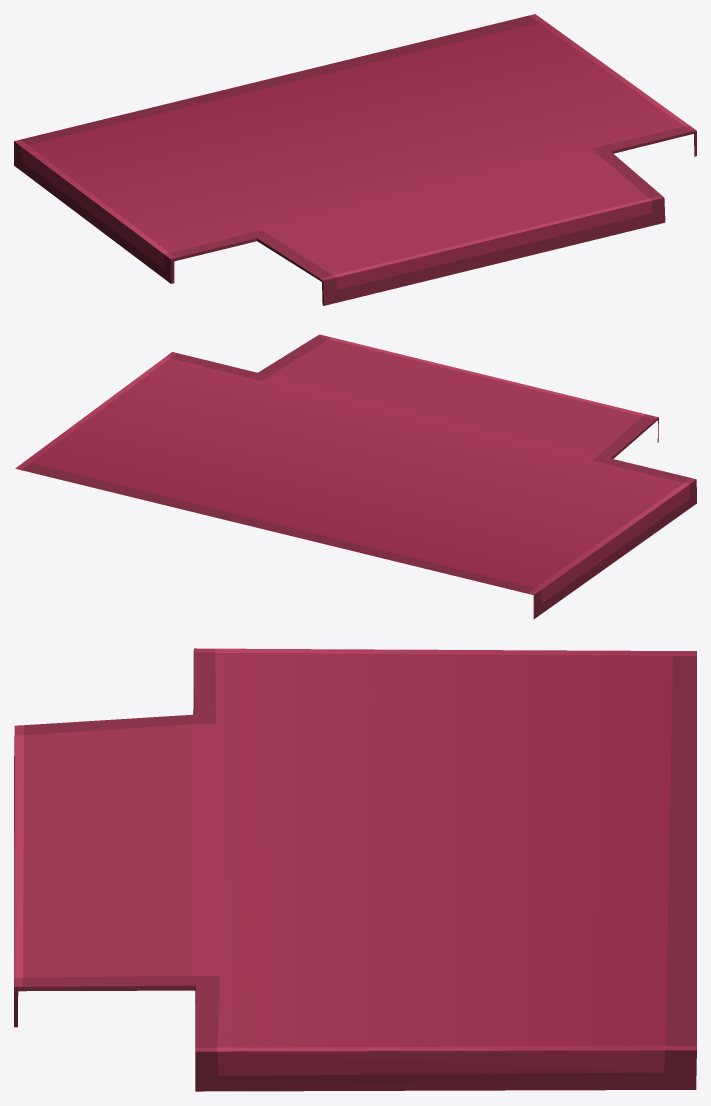
Rendered from RDMARedCarpet.glb.
3 renders of one model, top to bottom at view 1: azimuth 30°, elevation 25°; view 2: azimuth 150°, elevation 25°; view 3: azimuth 270°, elevation 25°, orthographic. The views are drawn at different scales.
Visible parts, largest first — view 1: RDMARedCarpet; view 2: RDMARedCarpet; view 3: RDMARedCarpet.
Boxes of the visible parts, x1,y1,x2,y2 form: RDMARedCarpet: (14, 14, 696, 305); RDMARedCarpet: (15, 334, 696, 619); RDMARedCarpet: (14, 648, 696, 1091).
Size of the model in its own units: 4.29 by 0.2179 by 3.07.
